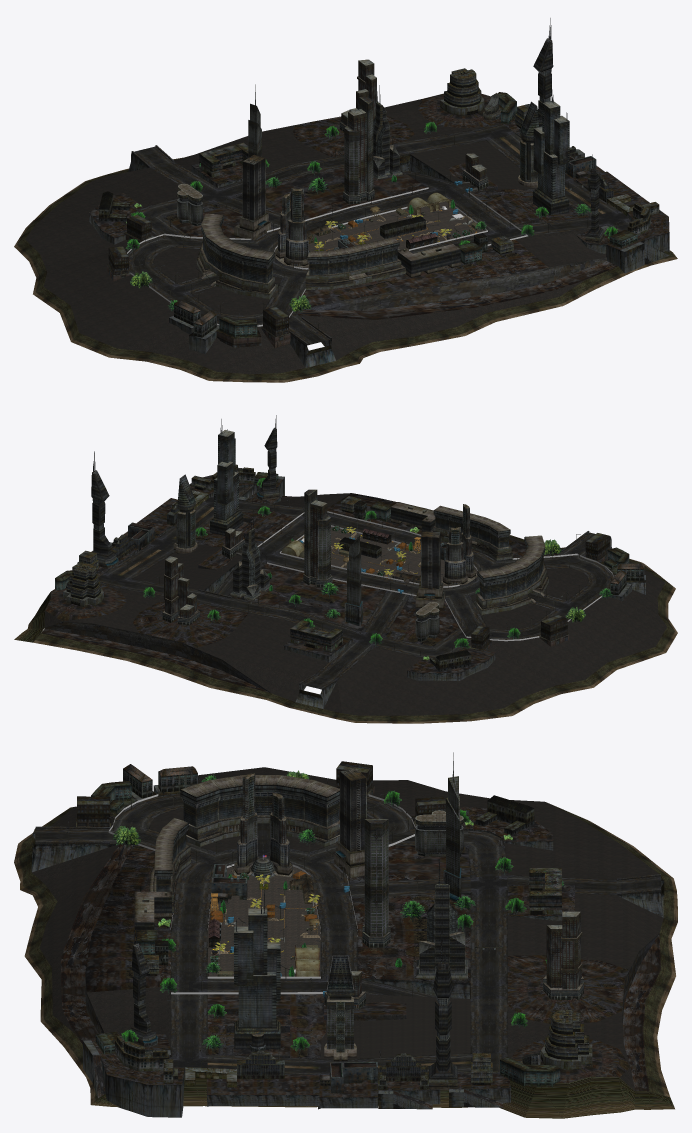
File: Final_Env_Scond.FBX
3 renders of one model, top to bottom at view 1: azimuth 30°, elevation 25°; view 2: azimuth 150°, elevation 25°; view 3: azimuth 270°, elevation 25°, orthographic. The views are drawn at different scales.
Parts seen in each view (by area): view 1: terrain, ground2, sky_scrape_40, Road, ground, m_tree_twosided_ghost_129, house_295, substructure_18, building-commercial_37, house, fence, house_266 (+11 smaller); view 2: terrain, ground2, sky_scrape_40, Road, m_tree_twosided_ghost_129, ground, house_295, building-commercial_37, substructure_07, fence, Hospital07, house (+8 smaller); view 3: terrain, sky_scrape_40, ground2, Road, ground, substructure_18, m_tree_twosided_ghost_129, substructure_033, building-commercial_37, house_295, substructure_031, substructure_07 (+18 smaller).
Boxes of the visible parts, x1,y1,x2,y2 form: terrain: (14, 93, 677, 382); ground2: (25, 99, 606, 374); sky_scrape_40: (177, 18, 604, 299); Road: (127, 170, 525, 345); ground: (274, 201, 485, 267); m_tree_twosided_ghost_129: (125, 121, 617, 312); house_295: (107, 215, 290, 347); substructure_18: (606, 210, 669, 273); building-commercial_37: (440, 68, 529, 128); house: (397, 244, 460, 277); fence: (127, 187, 527, 326); house_266: (216, 316, 261, 347); terrain: (14, 485, 677, 723); ground2: (44, 493, 666, 715); sky_scrape_40: (91, 415, 548, 641); Road: (214, 512, 613, 652); m_tree_twosided_ghost_129: (143, 477, 612, 660); ground: (298, 526, 477, 586); house_295: (468, 533, 609, 651); building-commercial_37: (63, 550, 103, 606); substructure_07: (407, 647, 495, 680); fence: (257, 511, 613, 641); Hospital07: (290, 620, 342, 652); house: (391, 502, 435, 532); terrain: (14, 775, 677, 1118); sky_scrape_40: (129, 752, 583, 1090); ground2: (32, 767, 663, 1090); Road: (35, 794, 478, 997); ground: (207, 866, 320, 976); substructure_18: (83, 1040, 184, 1117); m_tree_twosided_ghost_129: (113, 770, 564, 1051); substructure_033: (207, 1075, 319, 1106); building-commercial_37: (471, 1010, 592, 1085); house_295: (76, 761, 445, 827); substructure_031: (449, 1072, 510, 1107); substructure_07: (460, 807, 553, 850).
Size of what is drawn, in the model's own units: 694 by 171 by 555.
